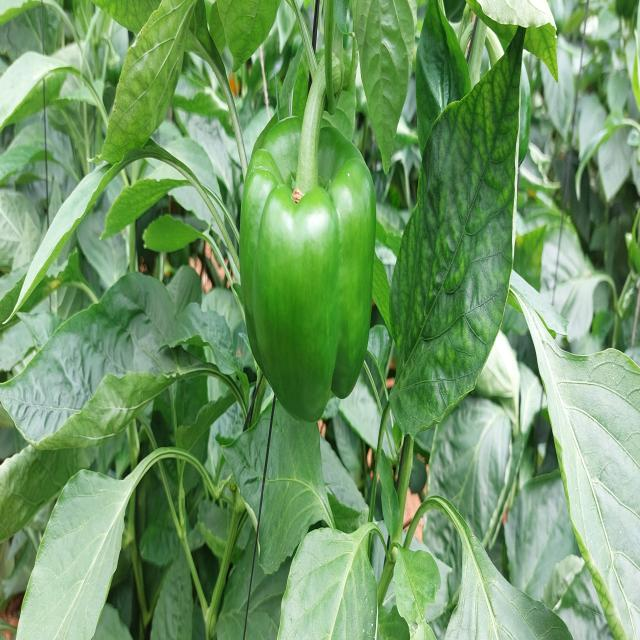Green--Not-ready-to-harvest: (238, 118, 382, 430)
